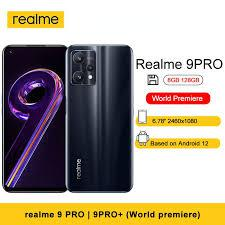Hand: (5, 46, 65, 193)
